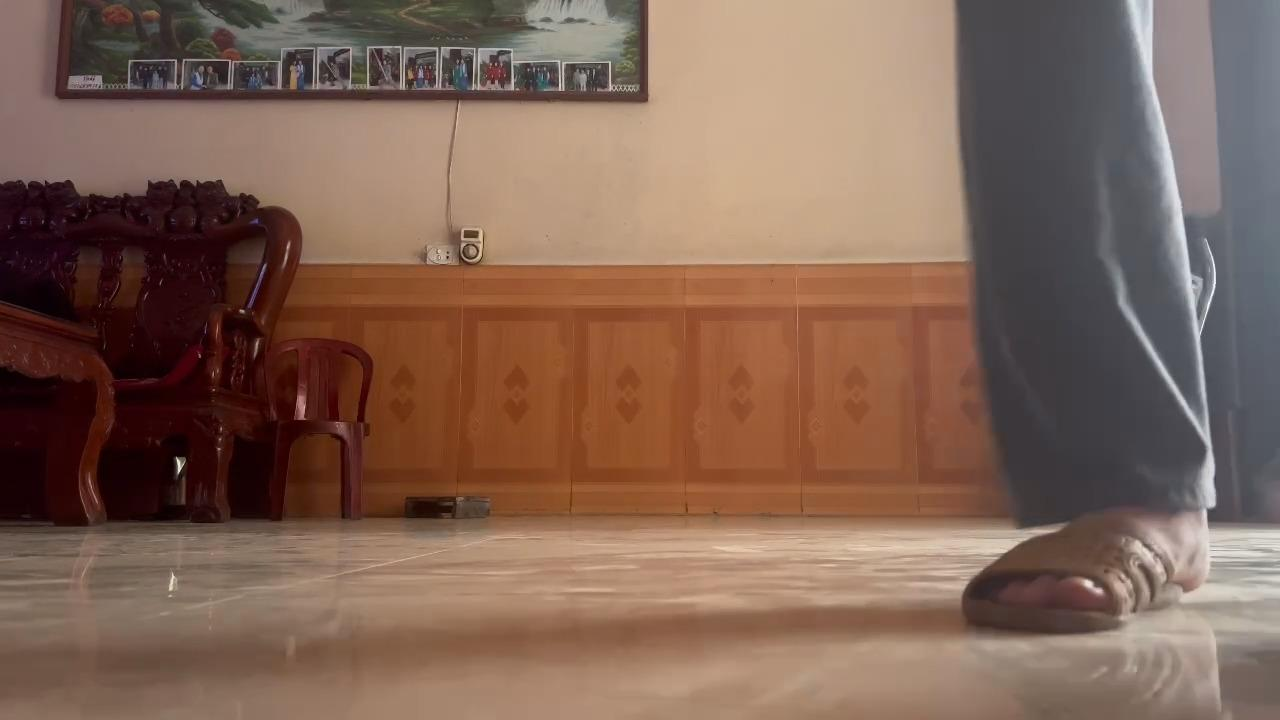no-boot: (957, 516, 1226, 645)
